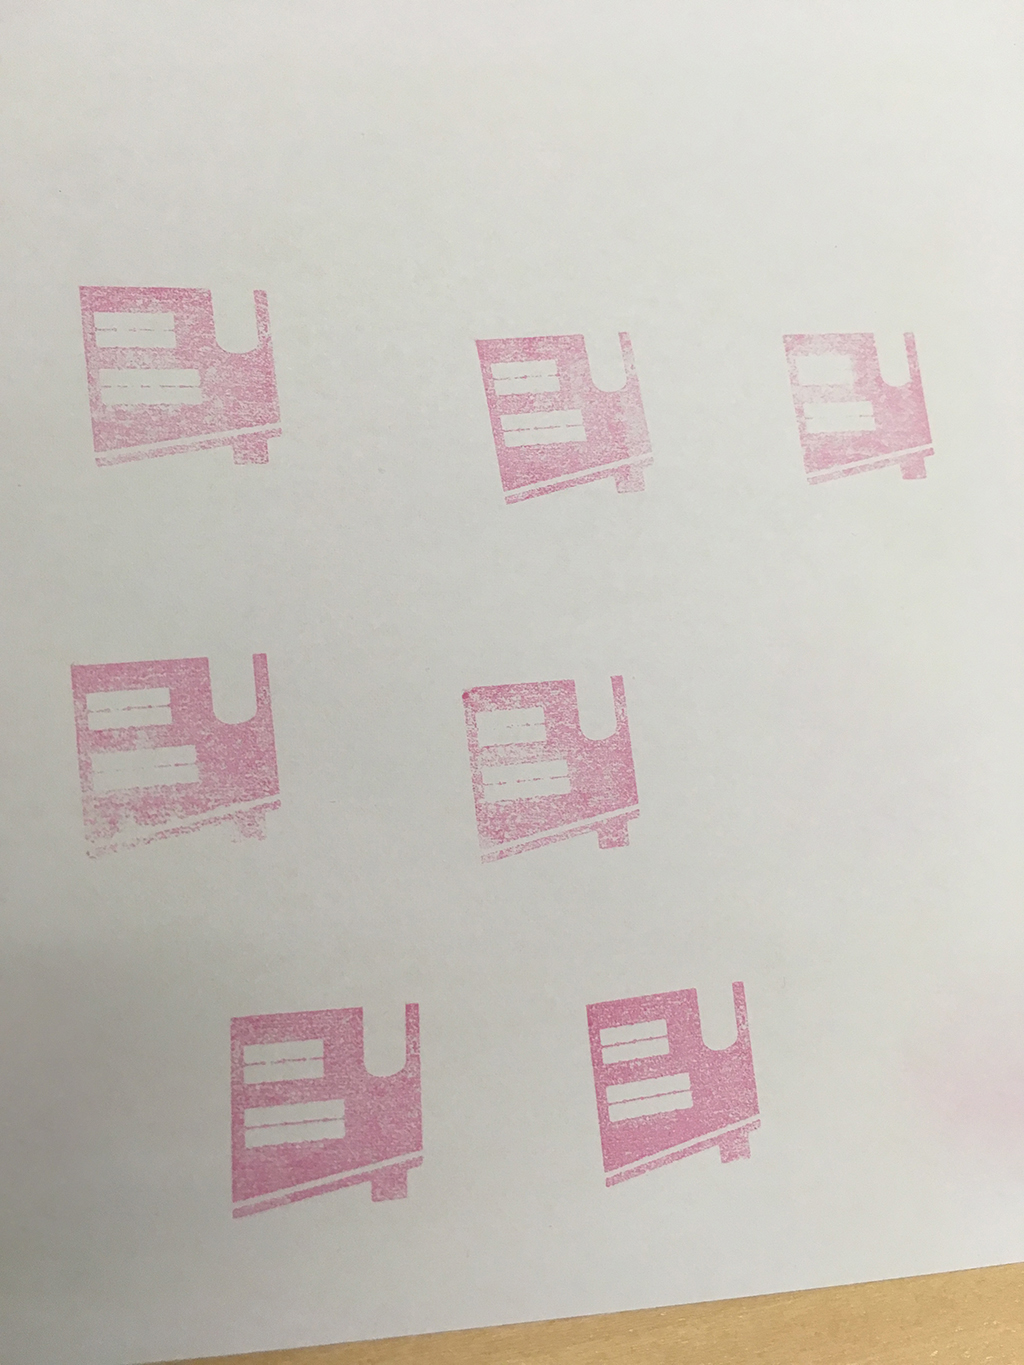house: (48, 643, 309, 875), (212, 982, 450, 1227), (62, 269, 295, 483), (566, 966, 783, 1188), (451, 312, 671, 516), (450, 663, 658, 878), (773, 313, 952, 504)
